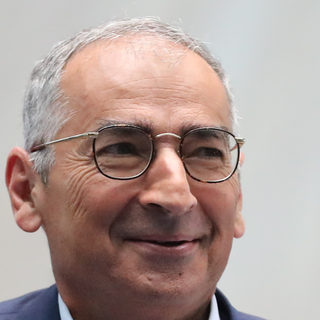eye: (179, 139, 232, 171), (91, 139, 143, 166)
